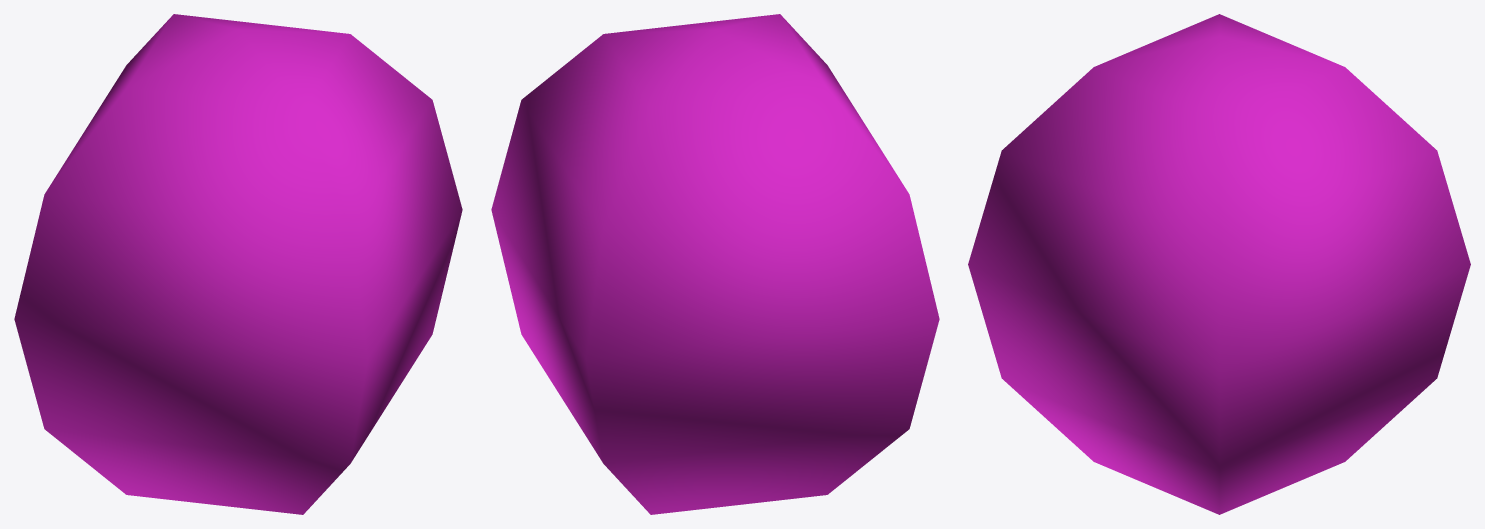
3 renders of one model, left to right at view 1: azimuth 30°, elevation 25°; view 2: azimuth 150°, elevation 25°; view 3: azimuth 270°, elevation 25°, orthographic. The views are drawn at different scales.
Size of the model in its own units: 0.2038 by 0.2038 by 0.2038.
